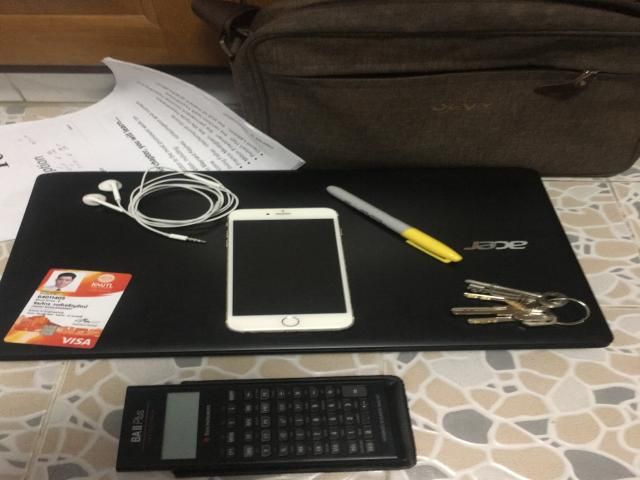Mobile phone: (227, 207, 353, 332)
Pen: (327, 186, 462, 263)
paper: (0, 57, 303, 241)
wire: (82, 167, 238, 243)
